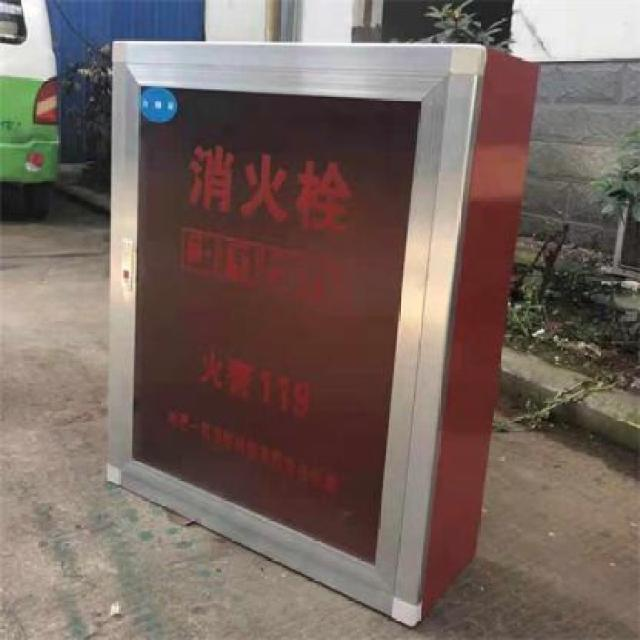firehydrant: (103, 32, 543, 635)
